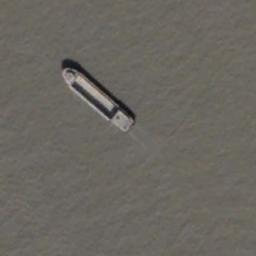boat: (60, 64, 136, 134)
